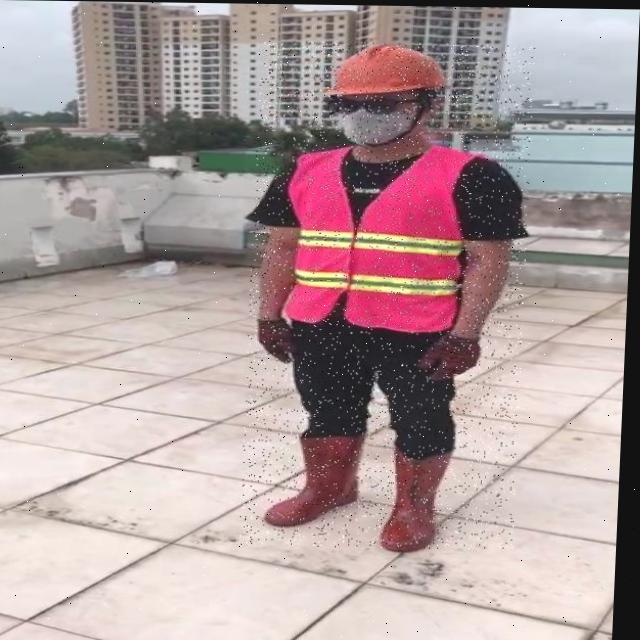Gloves: (418, 331, 484, 381), (258, 316, 299, 363)
Safety-Boot: (268, 428, 370, 526), (384, 438, 456, 550)
Safety-Vest: (282, 141, 484, 333)
